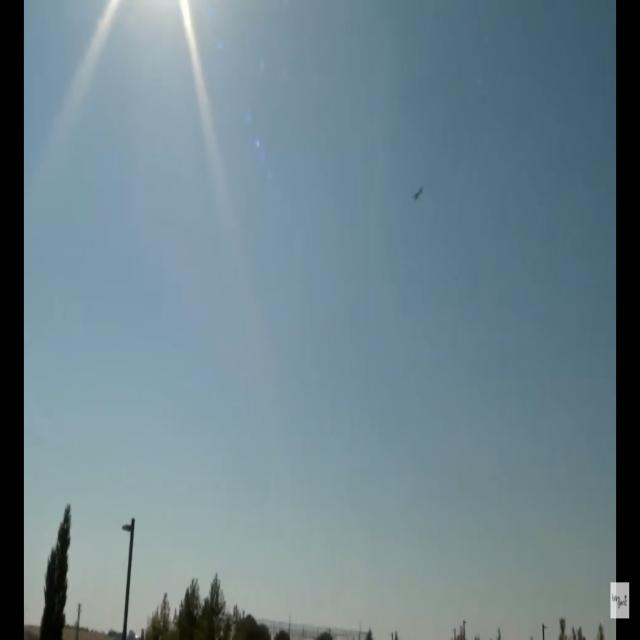iha: (410, 186, 423, 204)
